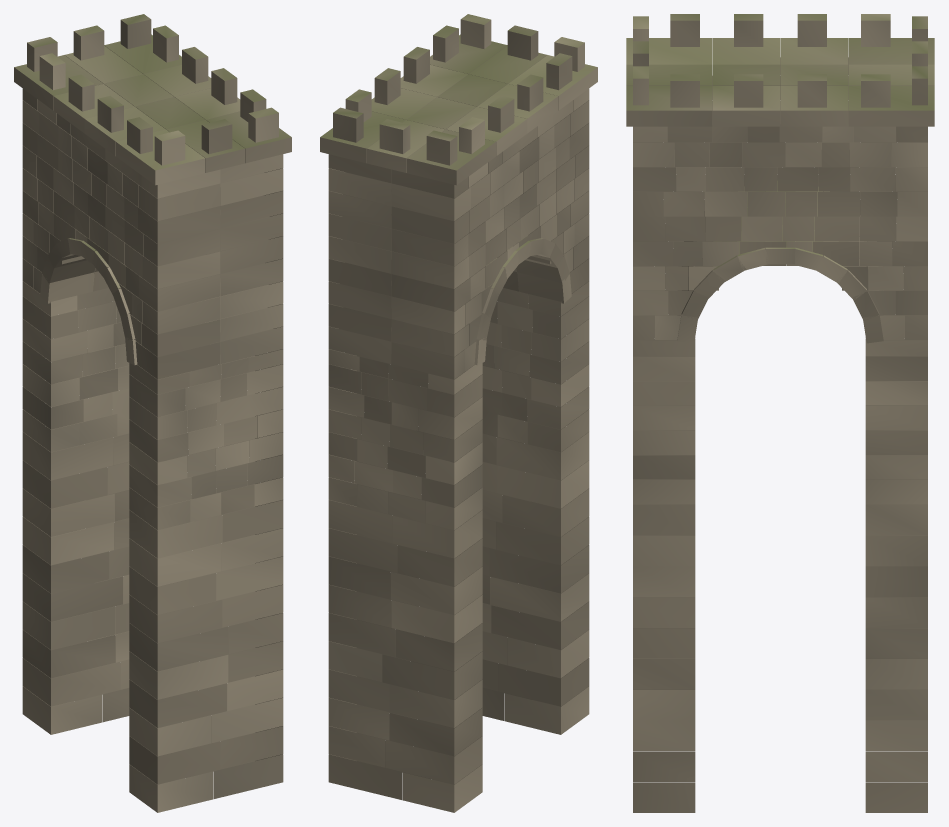
The model's file is bridge_tower_mid.glb.
The picture shows the model from 3 angles, left to right: view 1: azimuth 30°, elevation 25°; view 2: azimuth 150°, elevation 25°; view 3: azimuth 270°, elevation 25°; orthographic projection. The views are drawn at different scales.
Parts seen in each view (by area): view 1: bridge_tower_mid; view 2: bridge_tower_mid; view 3: bridge_tower_mid.
Boxes of the visible parts, x1,y1,x2,y2 form: bridge_tower_mid: (14,14,291,812); bridge_tower_mid: (320,14,597,812); bridge_tower_mid: (626,14,934,812).
Bounding box in the file's own units: 15.17 × 71.17 × 27.17.
